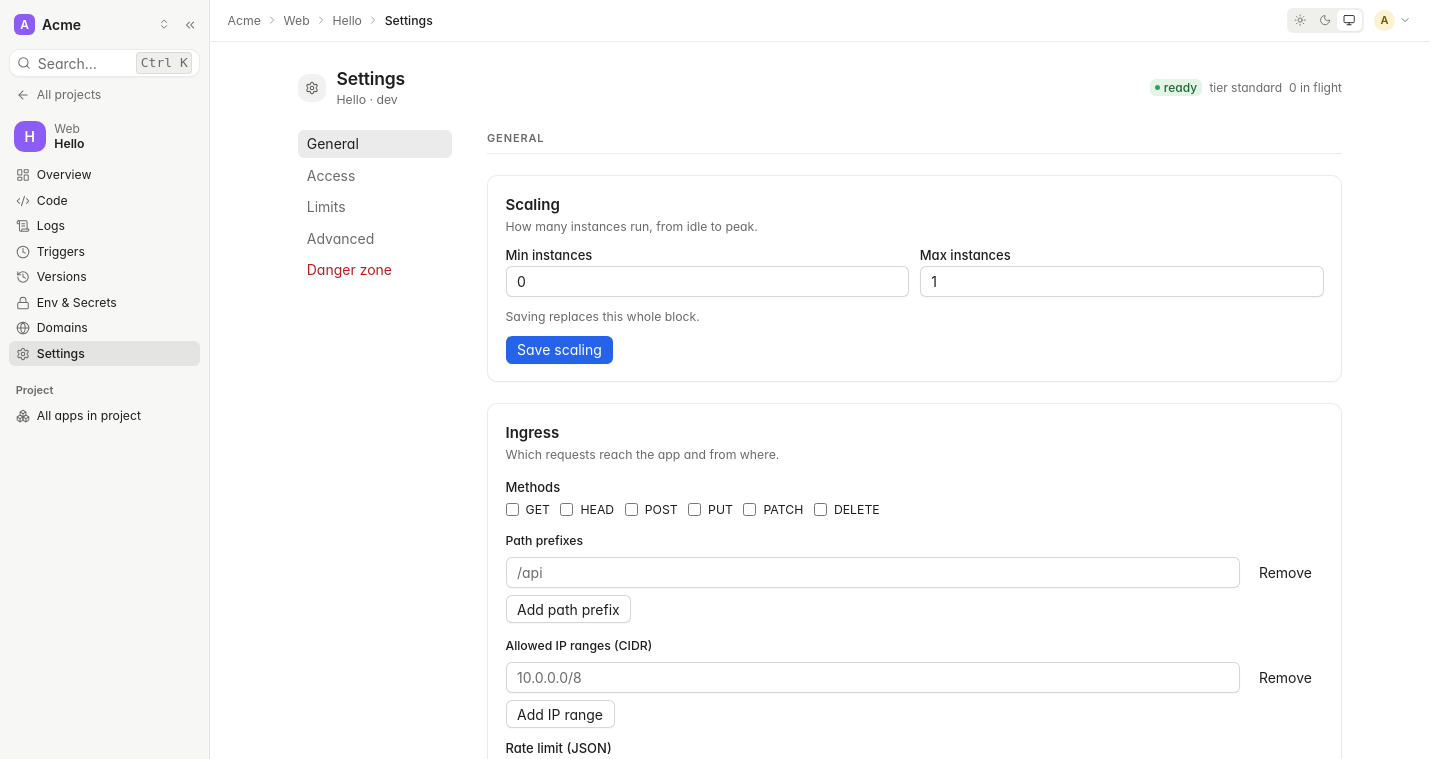
role gating › developer reaches the danger zone and the delete button
The image size is (1440, 759).
Click the button "Danger zone": (375, 270) x1=298 y1=256 x2=452 y2=284
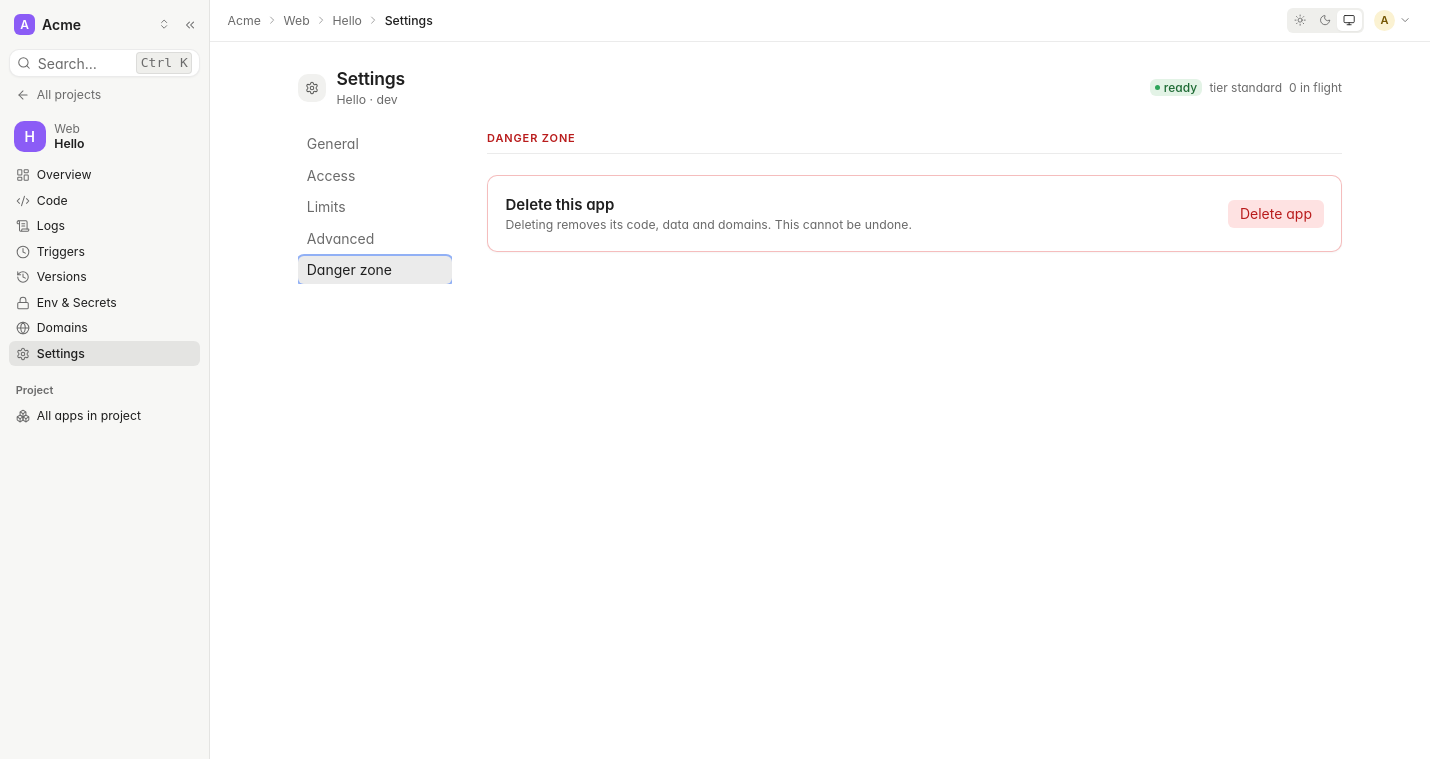
Result: the button "Delete app" is shown at x1=1228 y1=200 x2=1324 y2=228
